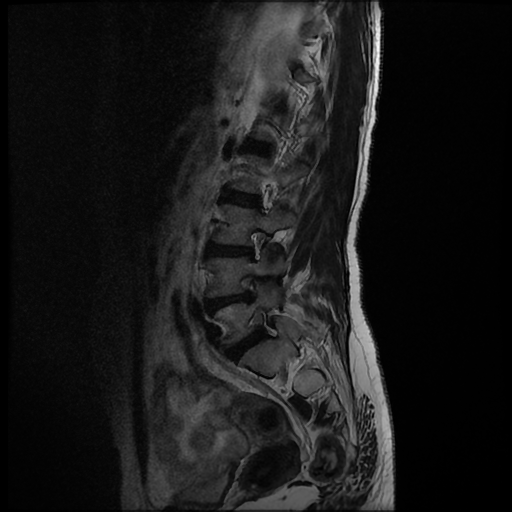LFS0: (237, 223, 273, 267)
LFS1: (241, 305, 283, 356)
LFS3: (226, 269, 264, 308)
